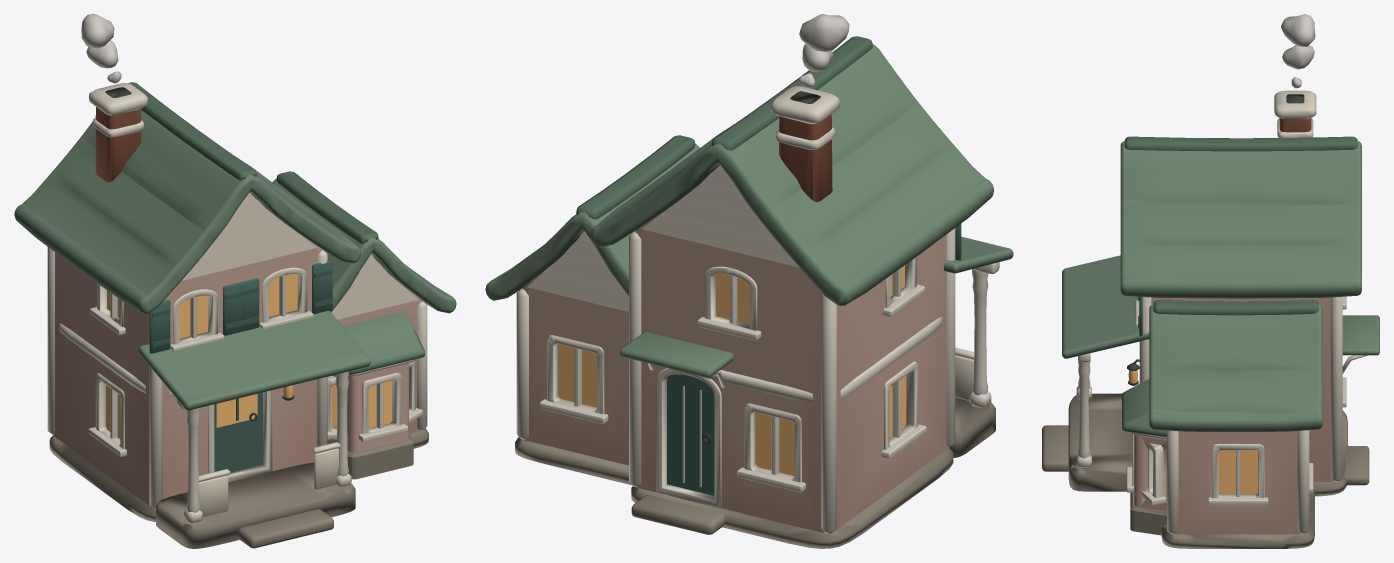
Rendered from BLD_Family_House_A.fbx.
3 views of the same model, side by side, from view 1: azimuth 30°, elevation 25°; view 2: azimuth 150°, elevation 25°; view 3: azimuth 270°, elevation 25° (orthographic). The views are drawn at different scales.
Parts seen in each view (by area): view 1: BLD_Family_House_A_Body_LOD0, BLD_Family_House_A_Puff3_LOD0, BLD_Family_House_A_Puff2_LOD0; view 2: BLD_Family_House_A_Body_LOD0, BLD_Family_House_A_Puff3_LOD0; view 3: BLD_Family_House_A_Body_LOD0, BLD_Family_House_A_Puff3_LOD0, BLD_Family_House_A_Puff2_LOD0.
Boxes of the visible parts, x1,y1,x2,y2 form: BLD_Family_House_A_Body_LOD0: (14,82,456,548); BLD_Family_House_A_Puff3_LOD0: (81,14,114,48); BLD_Family_House_A_Puff2_LOD0: (86,40,118,68); BLD_Family_House_A_Body_LOD0: (485,36,1013,548); BLD_Family_House_A_Puff3_LOD0: (799,14,849,51); BLD_Family_House_A_Body_LOD0: (1042,90,1379,548); BLD_Family_House_A_Puff3_LOD0: (1281,14,1315,46); BLD_Family_House_A_Puff2_LOD0: (1282,45,1314,69).
Size of what is drawn, in the model's own units: 4.8 by 6.02 by 4.48.
